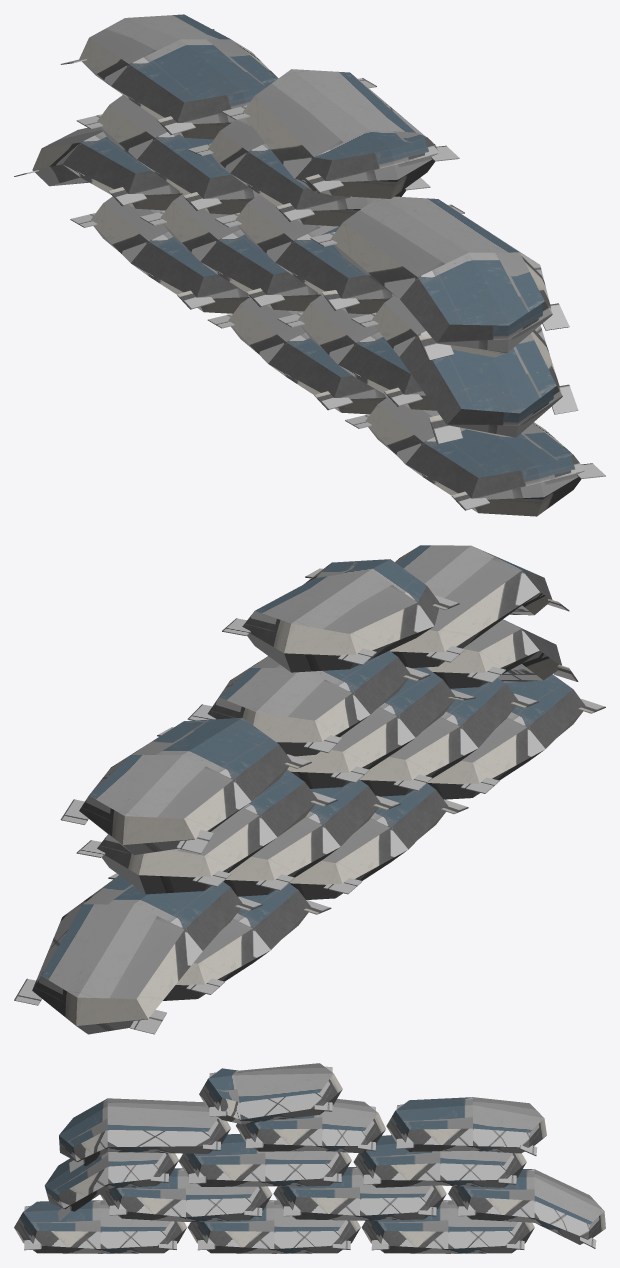
The model's file is SandbagsWALL_2.fbx.
3 renders of one model, top to bottom at view 1: azimuth 30°, elevation 25°; view 2: azimuth 150°, elevation 25°; view 3: azimuth 270°, elevation 25°, orthographic. The views are drawn at different scales.
Visible parts, largest first — view 1: Plane.014, Plane.008, Plane.015, Plane.001, Plane.011, Plane.012, Plane.010, Plane.003, Plane.006, Plane.002, Plane.013, Plane.005 (+1 smaller); view 2: Plane.005, Plane.015, Plane.008, Plane.013, Plane.014, Plane.012, Plane.001, Plane.007, Plane.010, Plane.006, Plane.002, Plane.003 (+1 smaller); view 3: Plane.014, Plane.015, Plane.008, Plane.001, Plane.005, Plane.010, Plane.012, Plane.006, Plane.003, Plane.002, Plane.007, Plane.013 (+1 smaller).
Part boxes in pixels (box(x1,y1,x2,y2)): Plane.014: box(310, 196, 569, 360); Plane.008: box(222, 69, 459, 198); Plane.015: box(60, 14, 278, 139); Plane.001: box(345, 397, 605, 516); Plane.011: box(351, 295, 578, 444); Plane.012: box(76, 95, 259, 214); Plane.010: box(215, 194, 394, 314); Plane.003: box(70, 196, 249, 313); Plane.006: box(140, 194, 320, 311); Plane.002: box(207, 297, 387, 414); Plane.013: box(188, 118, 430, 226); Plane.005: box(14, 127, 182, 210); Plane.005: box(14, 873, 262, 1034); Plane.015: box(60, 717, 311, 855); Plane.008: box(222, 559, 459, 672); Plane.013: box(187, 651, 430, 756); Plane.014: box(390, 545, 569, 668); Plane.012: box(76, 769, 337, 894); Plane.001: box(427, 674, 605, 799); Plane.007: box(360, 678, 538, 796); Plane.010: box(287, 667, 475, 788); Plane.006: box(223, 779, 400, 896); Plane.002: box(289, 783, 468, 899); Plane.003: box(163, 883, 331, 1000); Plane.014: box(59, 1098, 230, 1172); Plane.015: box(386, 1097, 546, 1155); Plane.008: box(199, 1063, 342, 1124); Plane.001: box(14, 1200, 187, 1253); Plane.005: box(448, 1169, 605, 1248); Plane.010: box(178, 1134, 351, 1186); Plane.012: box(353, 1135, 526, 1187); Plane.006: box(273, 1167, 446, 1220); Plane.003: box(361, 1200, 534, 1253); Plane.002: box(187, 1200, 360, 1253); Plane.007: box(100, 1168, 272, 1221); Plane.013: box(236, 1099, 385, 1153).
Size of the model in its own units: 56.62 by 105 by 325.
